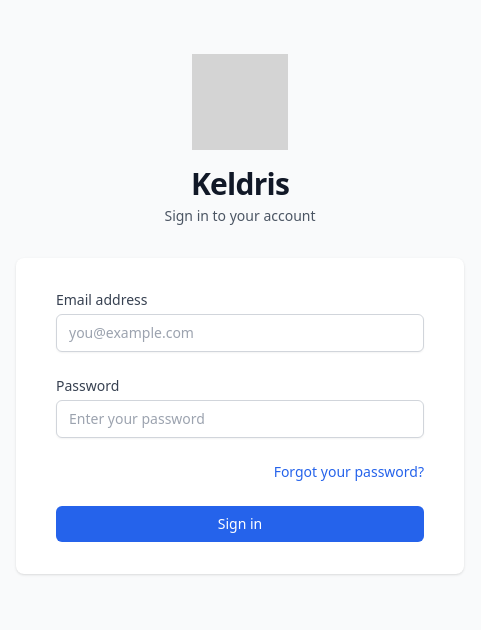
Test: LoginPage › shows error message on unverified email (403)
Type "user@test.com" into the field labelled "Email address" at [240, 333], box [56, 314, 424, 352]
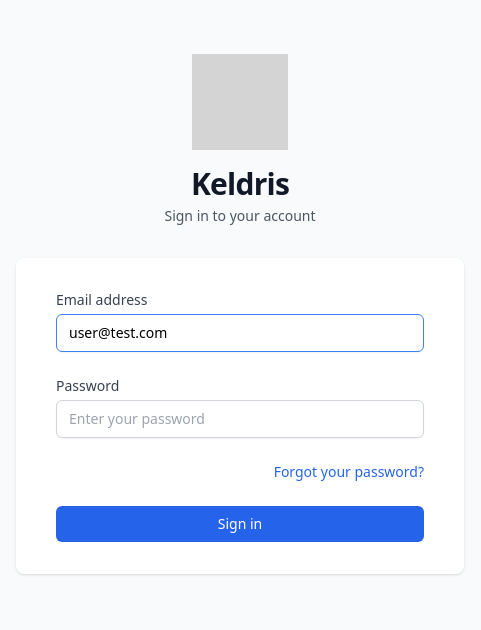
Type "pass1234" into the password field labelled "Password" at [240, 419], box [56, 400, 424, 438]
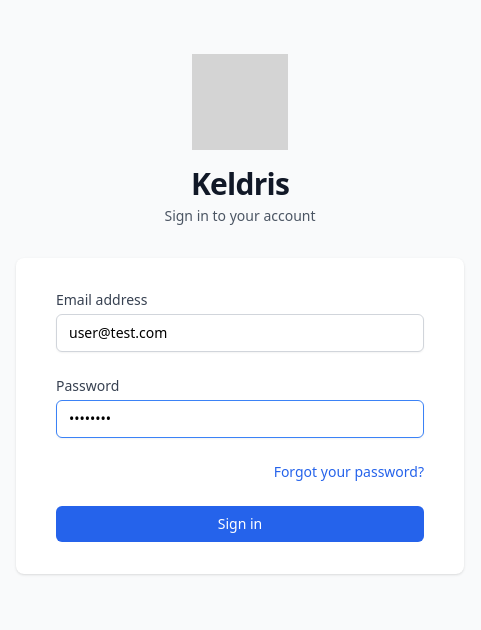
Click the button "Sign in" at [240, 524], box [56, 506, 424, 542]
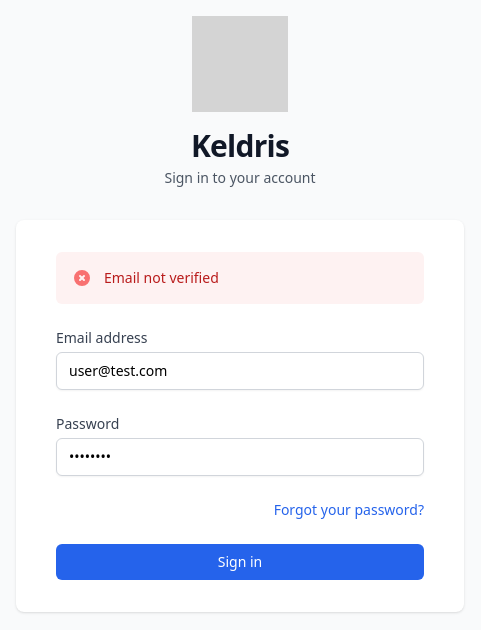
Now the text "Email not verified" is shown, box [104, 268, 219, 288]
